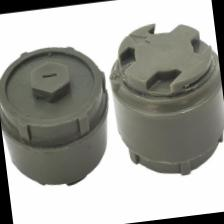M14: (101, 12, 224, 181), (0, 24, 116, 192)
